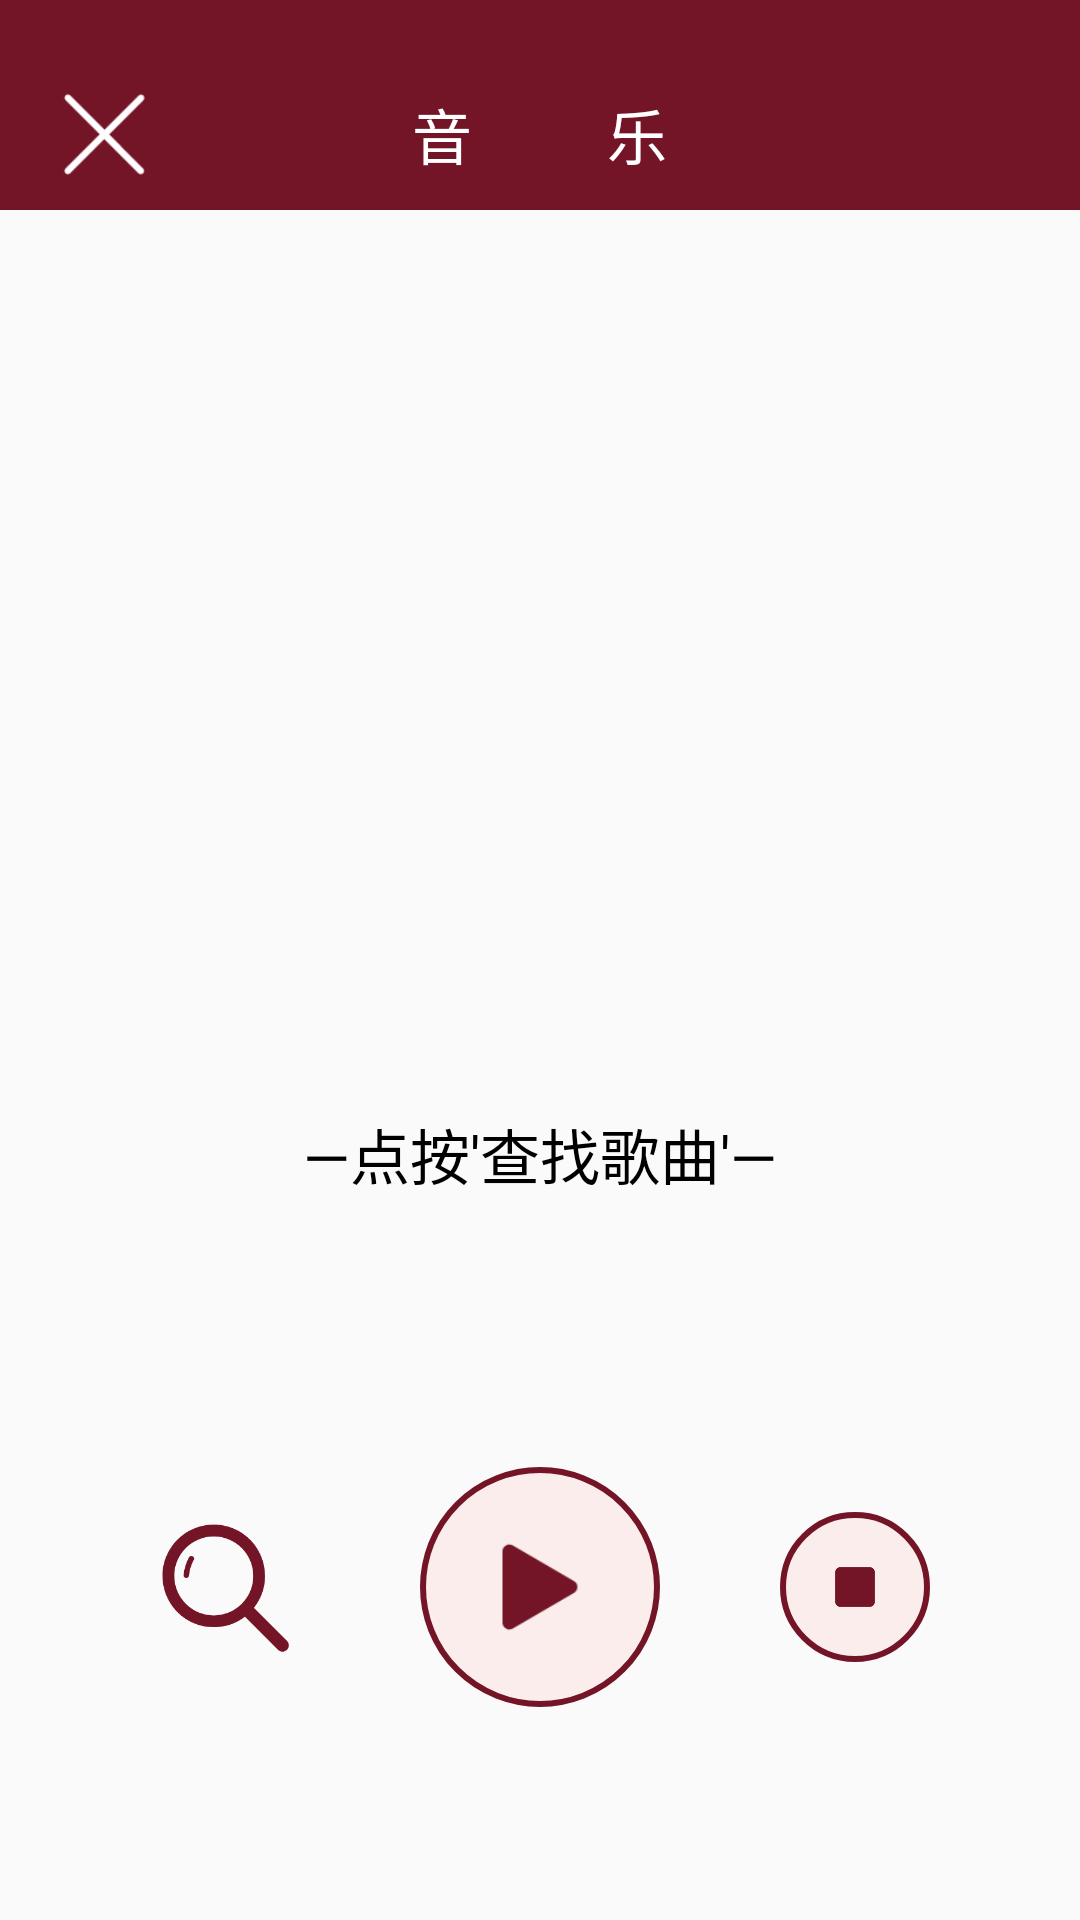

Named icons in this screenshot (1080×1920) and their bounding boxes, box=[x1, y1, x2, y2]:
play: box=[420, 1467, 660, 1707]
search: box=[162, 1524, 289, 1652]
stop: box=[780, 1512, 930, 1662]
